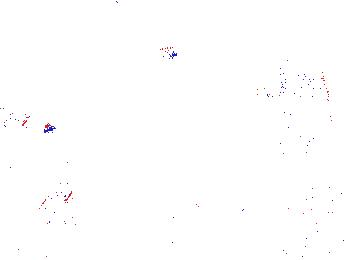glassfish: (1, 100, 59, 139)
red belly glassfish: (144, 26, 179, 61)
